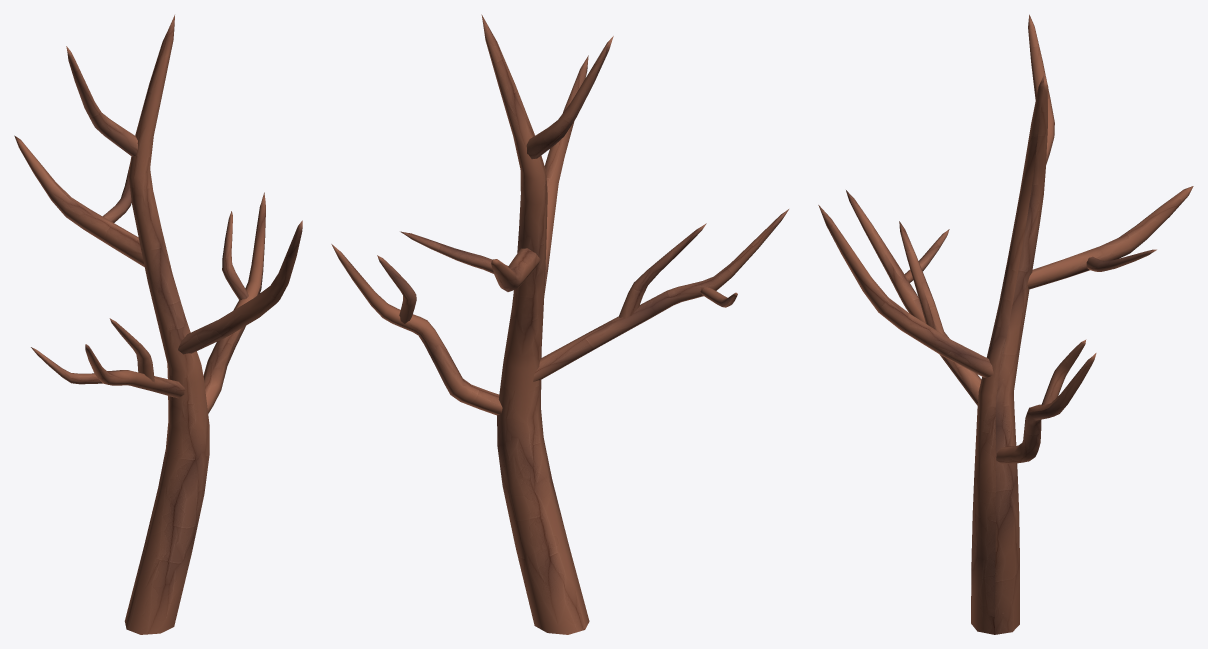
Rendered from DeadTree_5.glb.
3 views of the same model, side by side, from view 1: azimuth 30°, elevation 25°; view 2: azimuth 150°, elevation 25°; view 3: azimuth 270°, elevation 25° (orthographic). The views are drawn at different scales.
Visible parts, largest first — view 1: DeadTree_5; view 2: DeadTree_5; view 3: DeadTree_5.
Boxes of the visible parts, x1,y1,x2,y2 form: DeadTree_5: (14,15,302,634); DeadTree_5: (331,14,788,634); DeadTree_5: (818,14,1193,634).
Bounding box in the file's own units: 0.2449 × 0.4426 × 0.2607.
1 material, 1 textured.
